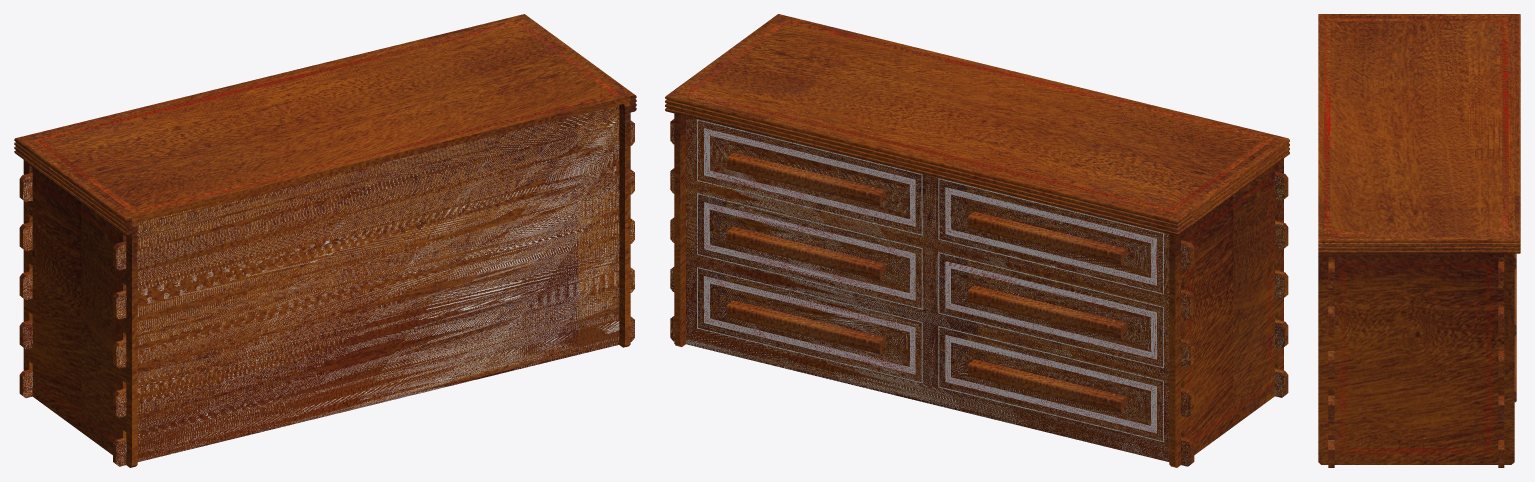
3 views of the same model, side by side, from view 1: azimuth 30°, elevation 25°; view 2: azimuth 150°, elevation 25°; view 3: azimuth 270°, elevation 25° (orthographic). The views are drawn at different scales.
Parts seen in each view (by area): view 1: mesh1_mesh1-geometry; view 2: mesh1_mesh1-geometry; view 3: mesh1_mesh1-geometry.
Boxes of the visible parts, <box> form: mesh1_mesh1-geometry: <box>14,14,636,467</box>; mesh1_mesh1-geometry: <box>665,14,1289,467</box>; mesh1_mesh1-geometry: <box>1318,14,1520,467</box>.
Size of the model in its own units: 0.8595 by 0.3982 by 0.3205.
